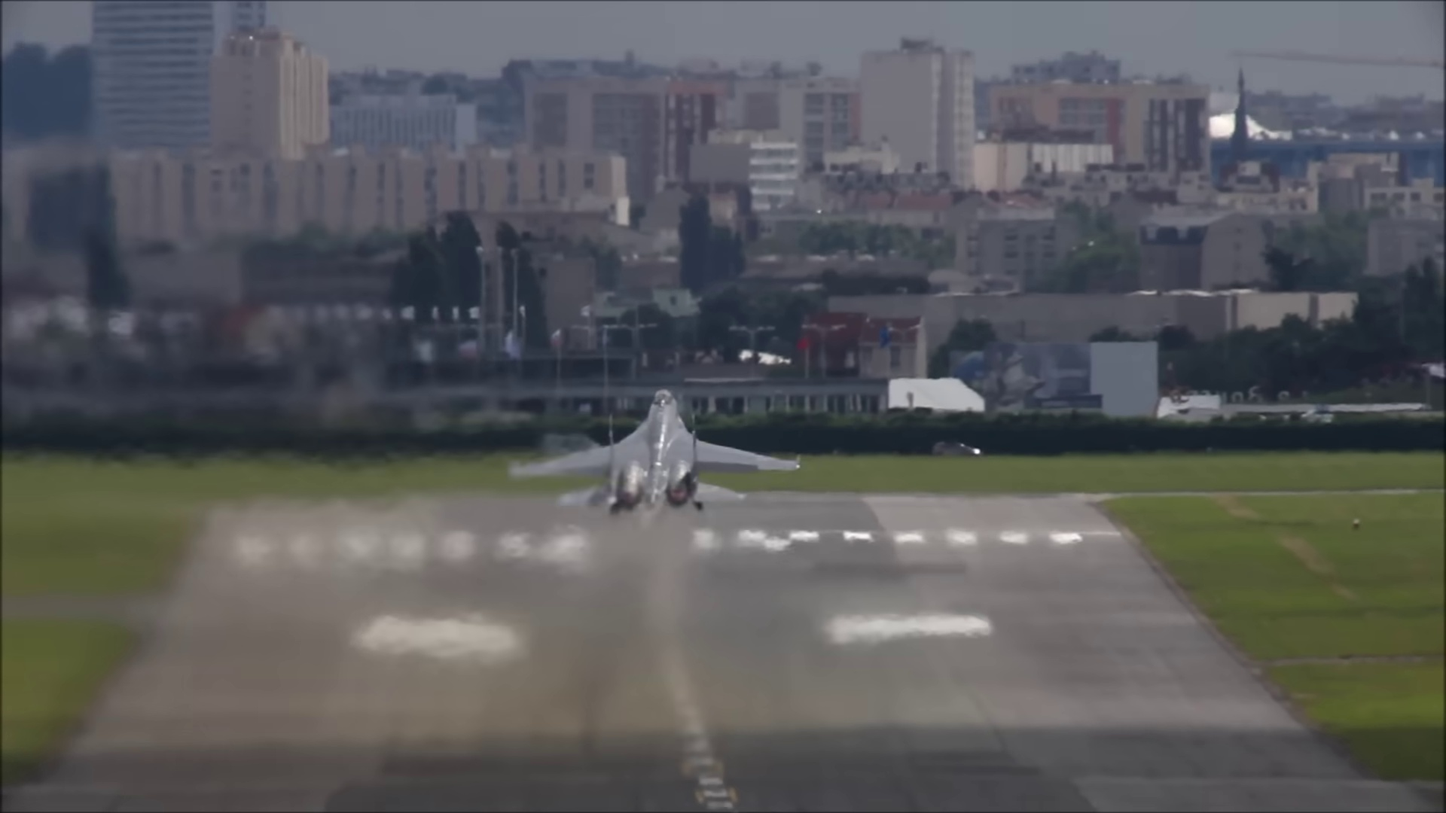Su35: (505, 380, 817, 527)
